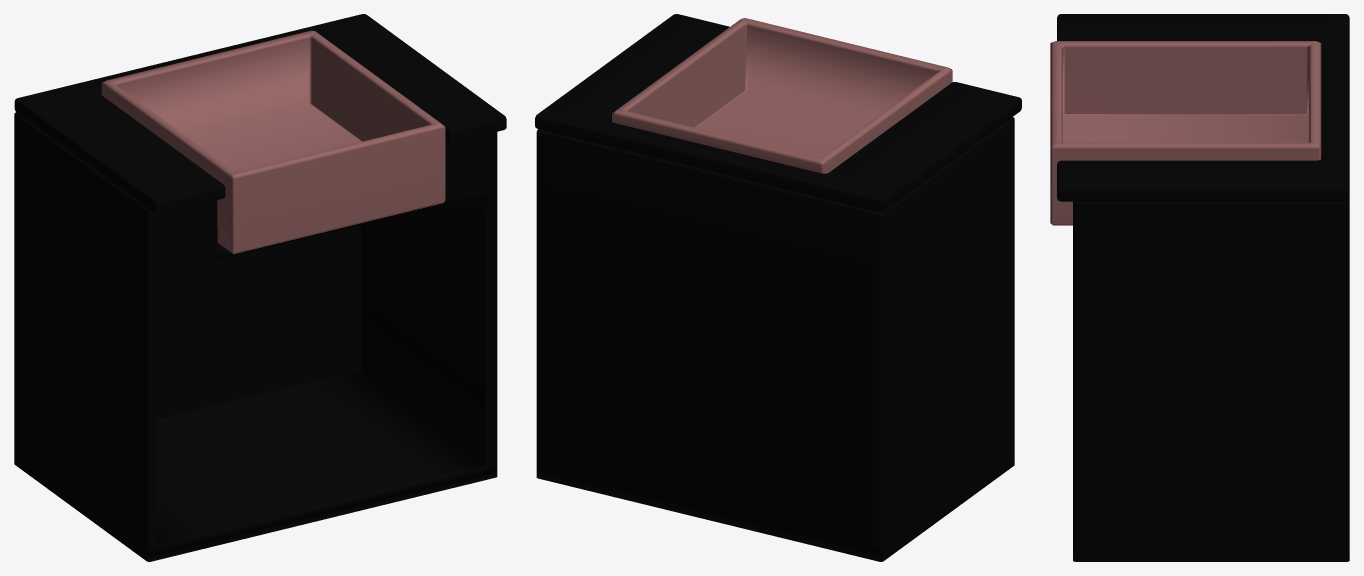
Rendered from kitchen_sink_low.fbx.
The picture shows the model from 3 angles, left to right: view 1: azimuth 30°, elevation 25°; view 2: azimuth 150°, elevation 25°; view 3: azimuth 270°, elevation 25°; orthographic projection. The views are drawn at different scales.
Visible parts, largest first — view 1: kitchen_sink_low; view 2: kitchen_sink_low; view 3: kitchen_sink_low.
Boxes of the visible parts, bbox=[...] form: kitchen_sink_low: bbox=[14, 14, 506, 561]; kitchen_sink_low: bbox=[535, 14, 1021, 561]; kitchen_sink_low: bbox=[1050, 14, 1349, 561].
Size of the model in its own units: 90.3 by 91.89 by 64.91.
